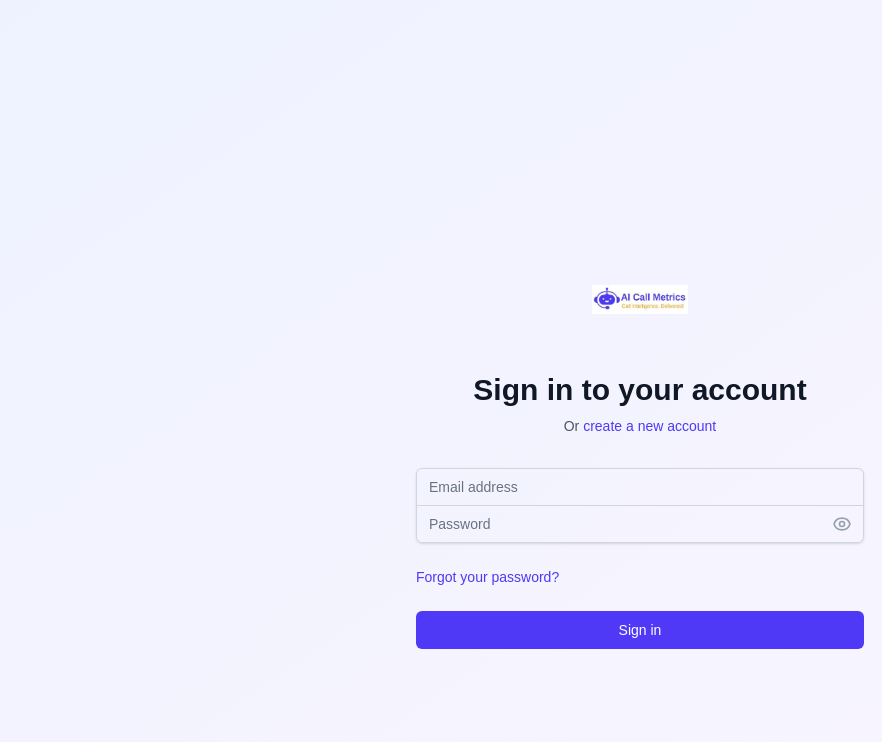
Test: LoginForm › handles resend verification email successfully
The image size is (882, 742).
Type "test@example.com" into the field with placeholder "Email address" at (640, 486), box [416,468,864,506]
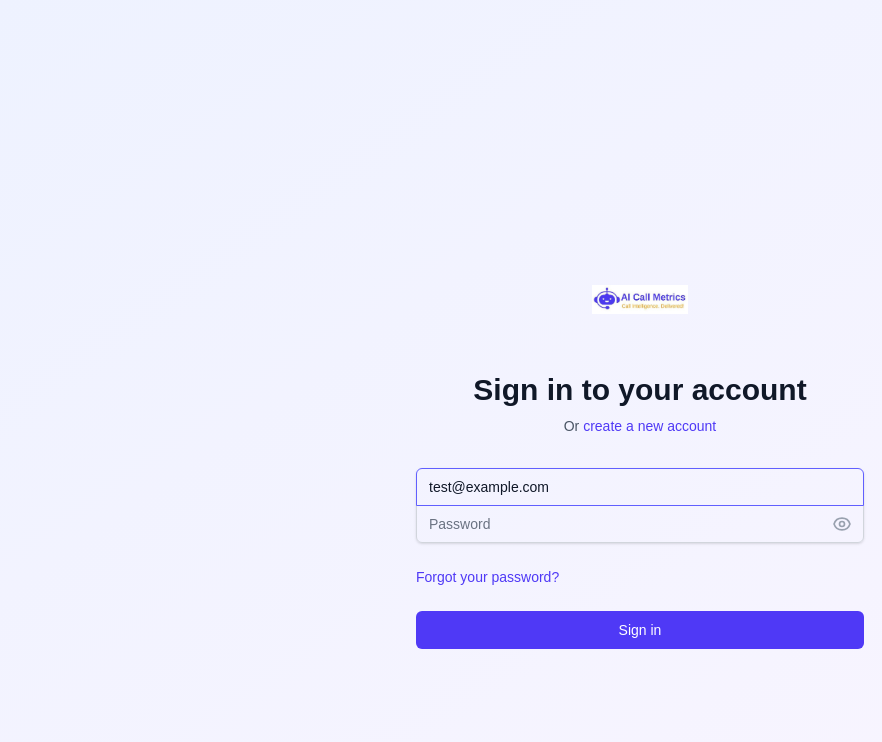
Type "password123" into the password field with placeholder "Password" at (640, 524), box [416,504,864,542]
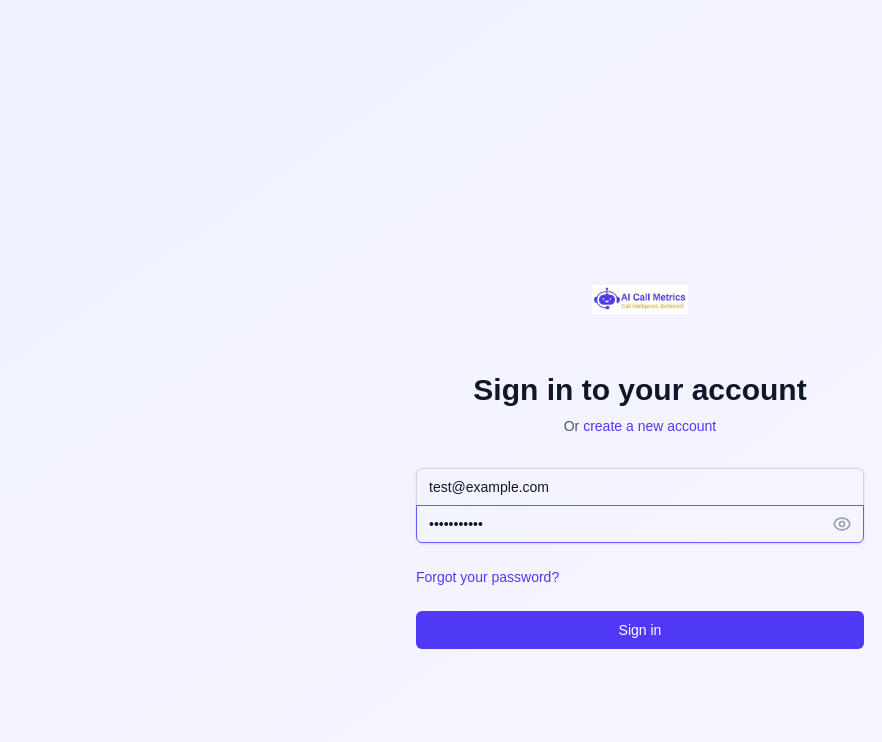
Click the button "Sign in" at (640, 630), box [416,610,864,648]
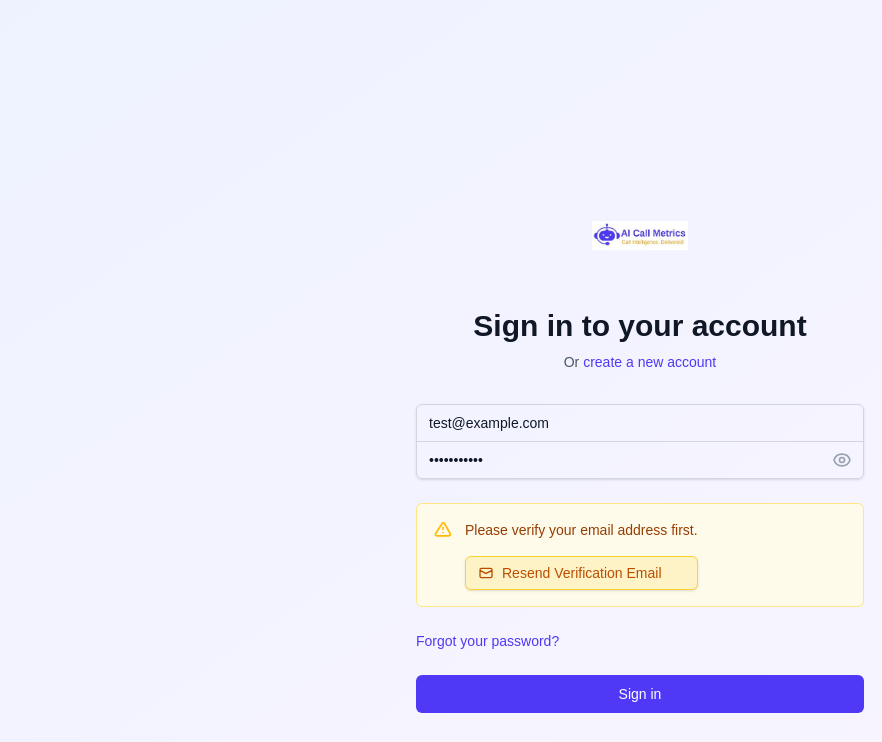
expect the button "Resend Verification Email" is shown: met
Click the button "Resend Verification Email" at (581, 572), box [465,556,698,590]
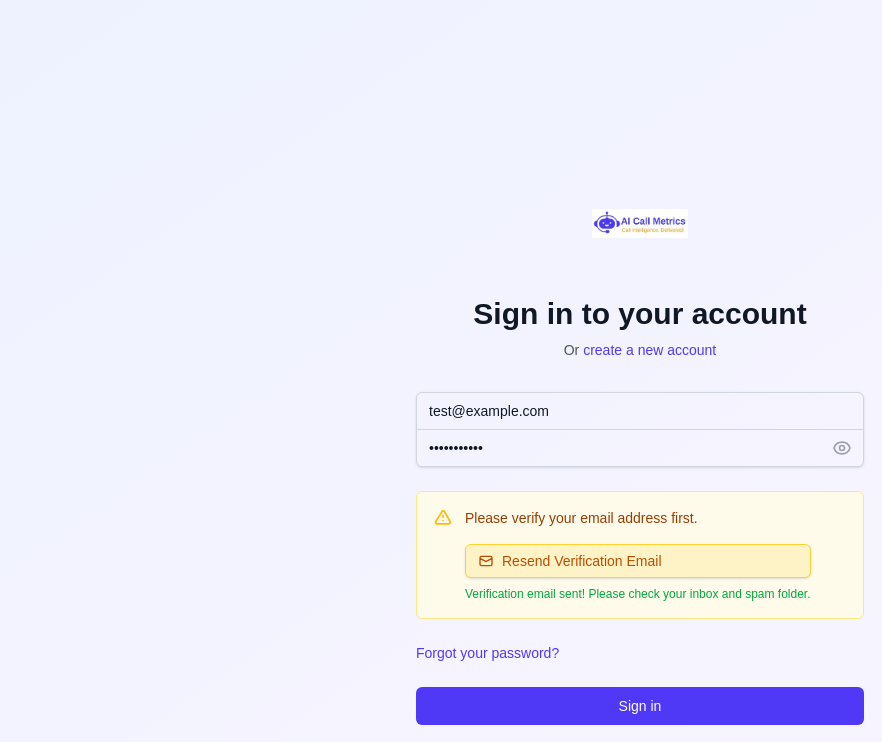
expect the text "Verification email sent! Please check your inbox and spam folder." is shown: met, box [465,586,810,602]
